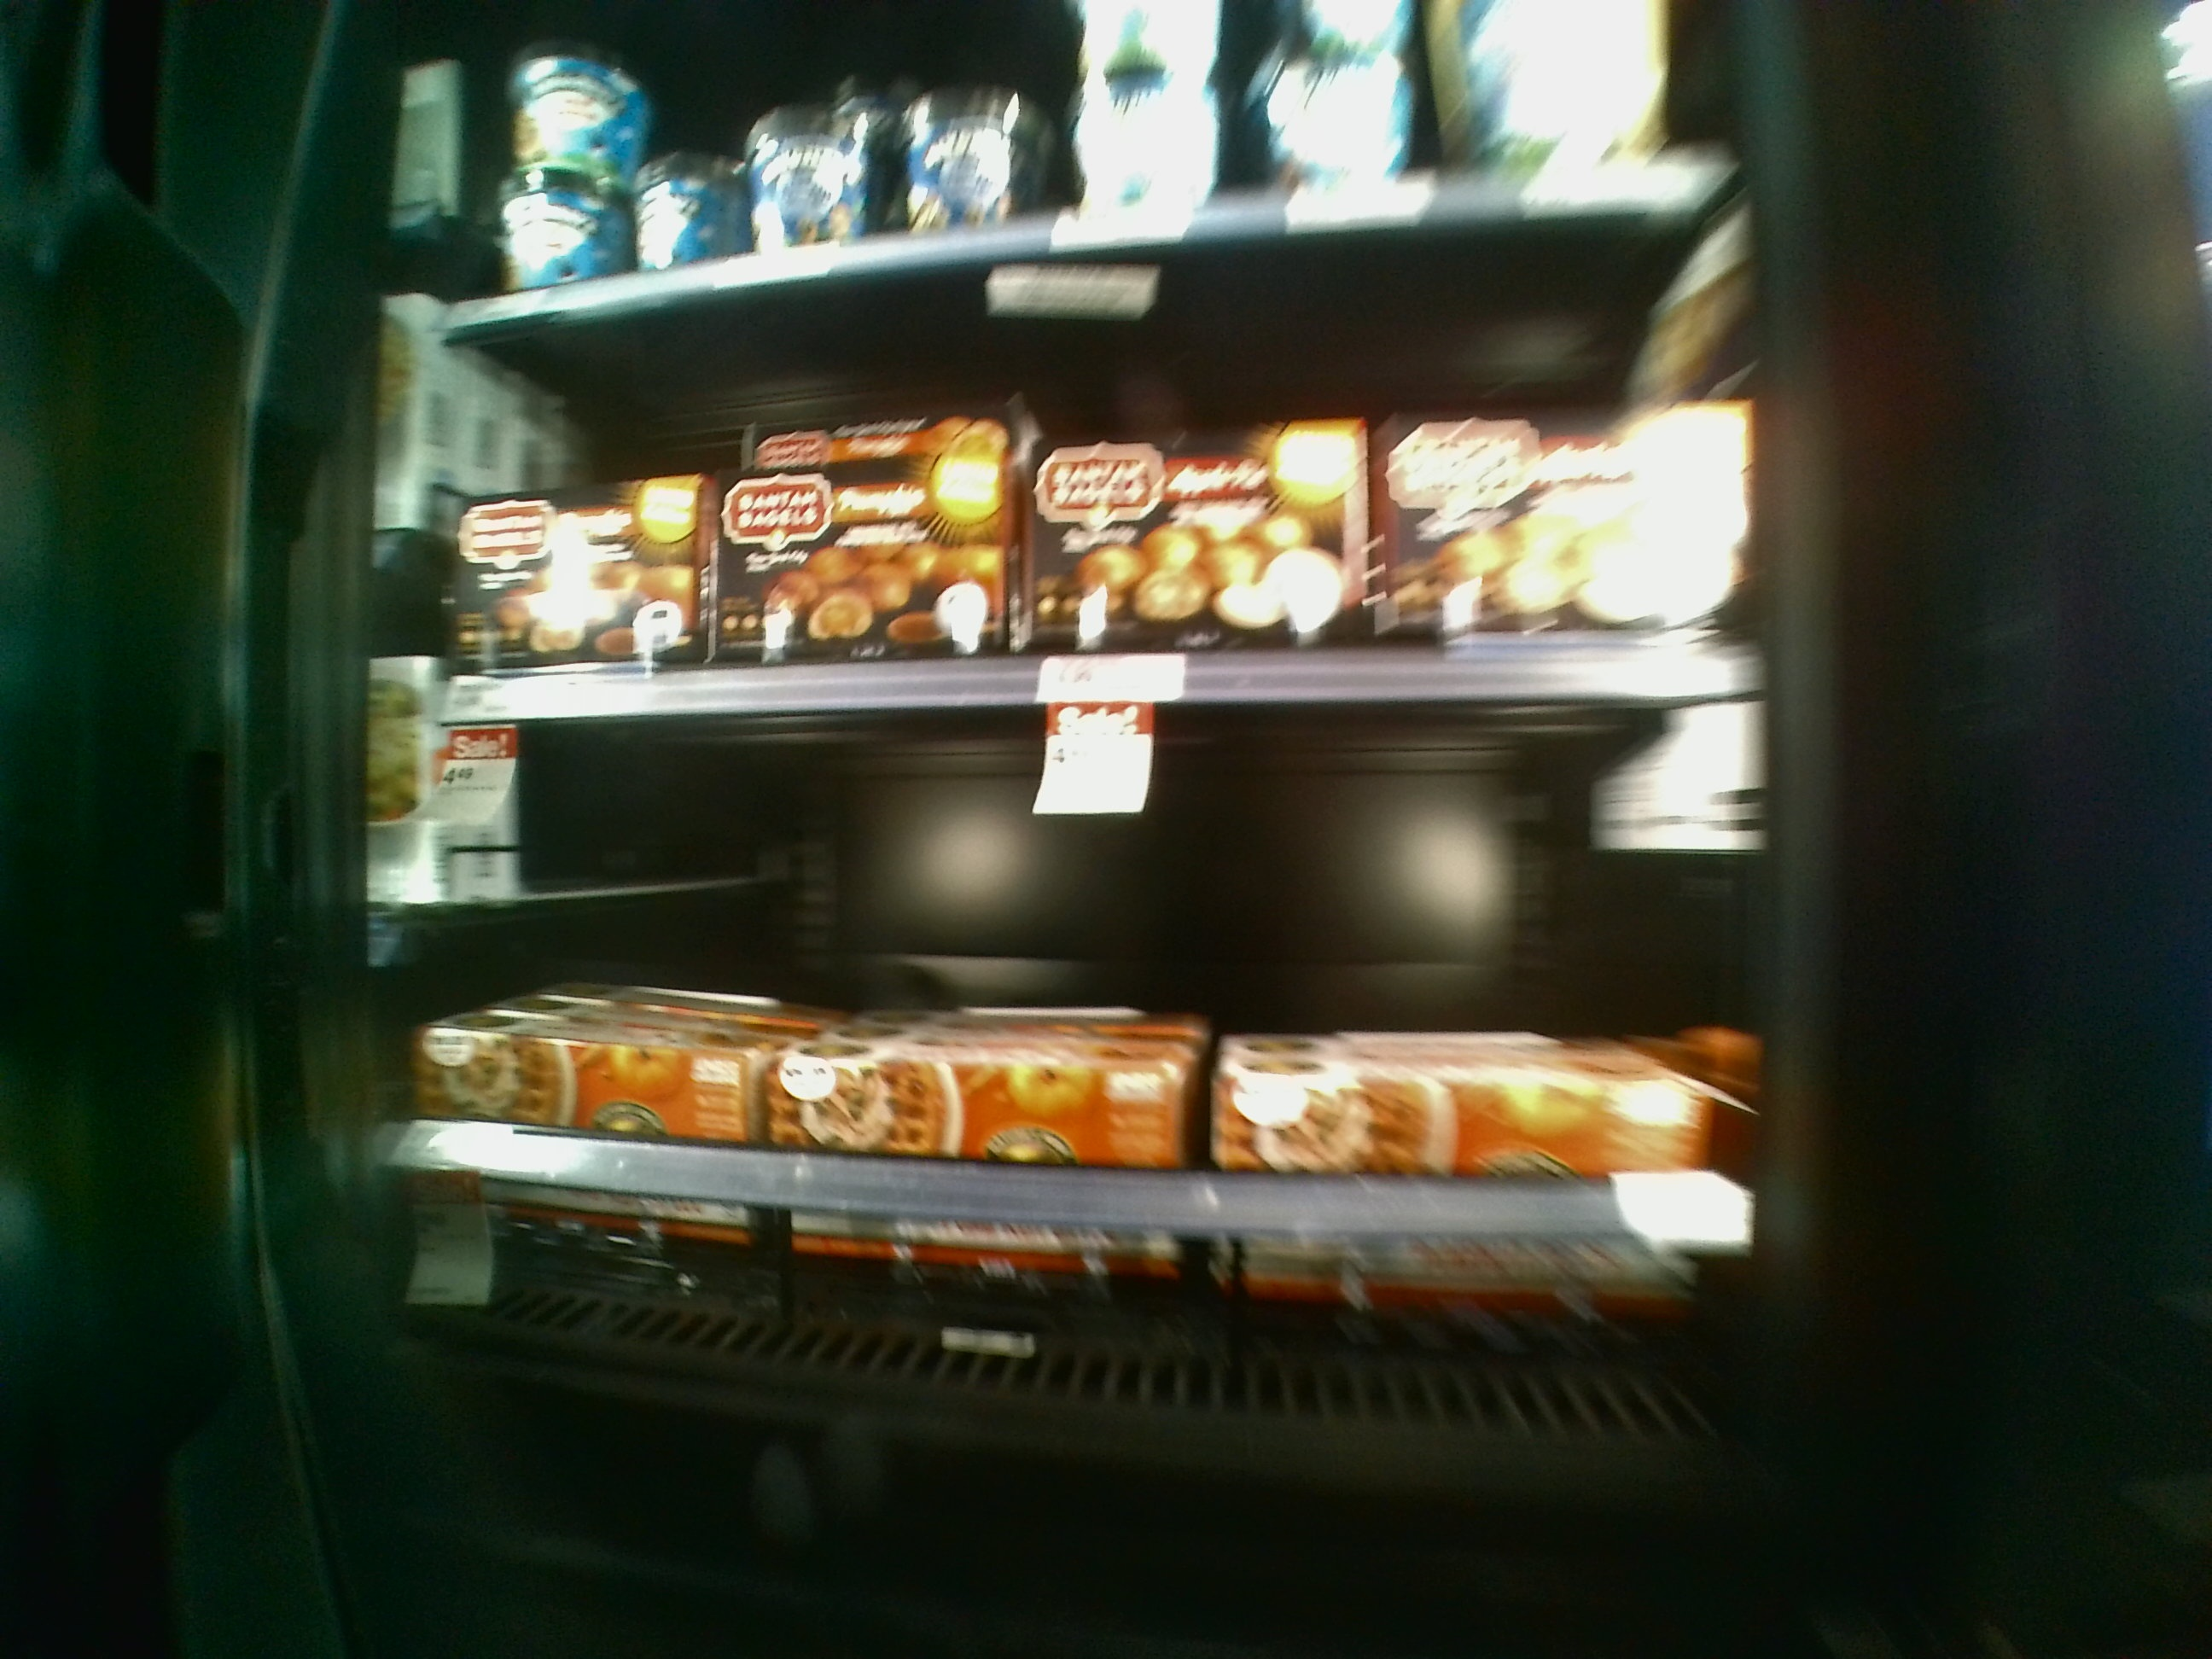shelf: (423, 660, 1737, 1441), (439, 272, 1731, 701)
